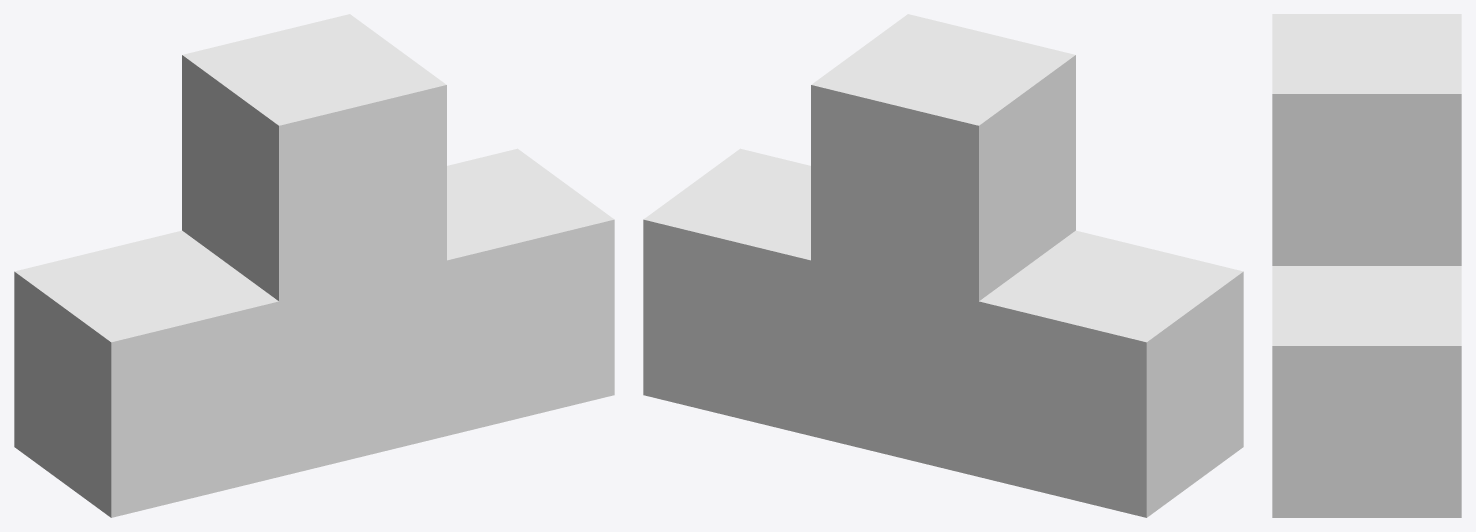
File: Spine1.obj
The picture shows the model from 3 angles, left to right: view 1: azimuth 30°, elevation 25°; view 2: azimuth 150°, elevation 25°; view 3: azimuth 270°, elevation 25°; orthographic projection. The views are drawn at different scales.
Size of the model in its own units: 3 by 2 by 1.
Materials: 1 (1 with a texture image).
